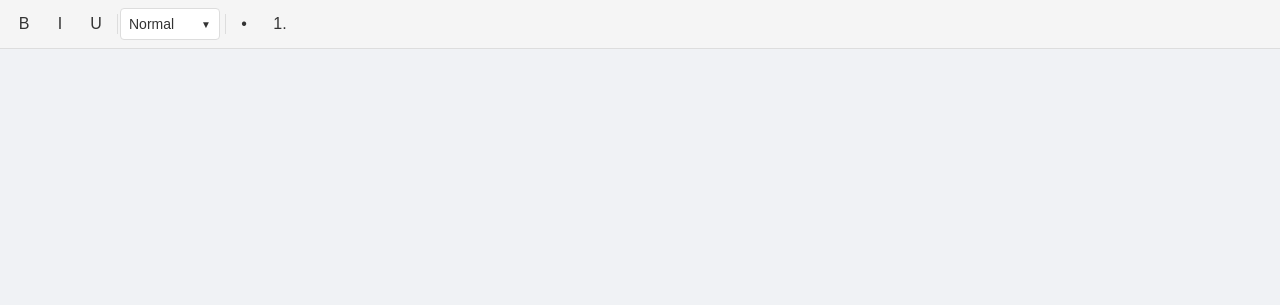
Toolbar Component › Dropdown Functionality › opens heading dropdown when clicked
Click the text "Normal" at (152, 24), box [129,16,174,32]
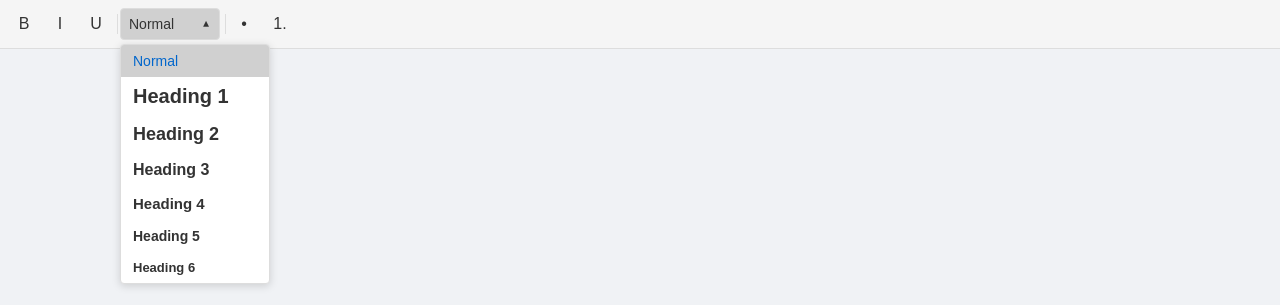
Check: the option "Heading 1" is shown, box [121,77,269,116]
Check: the option "Heading 2" is shown, box [121,116,269,153]
